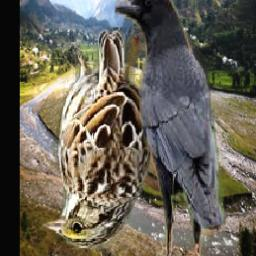Crow: (114, 0, 227, 256)
Sparrow: (41, 28, 153, 250)
